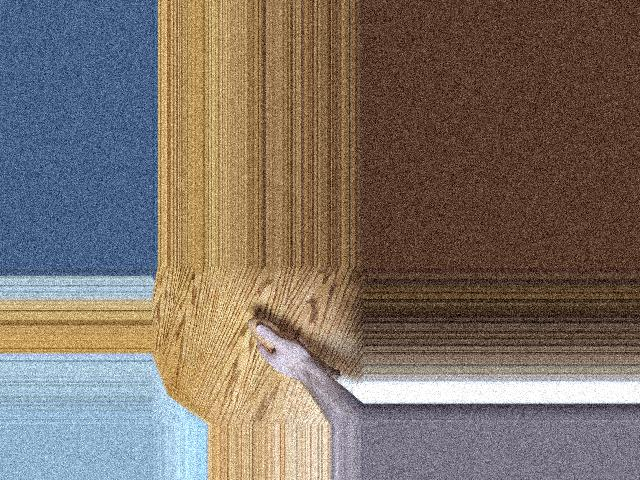sweet_potato: (246, 318, 343, 381)
